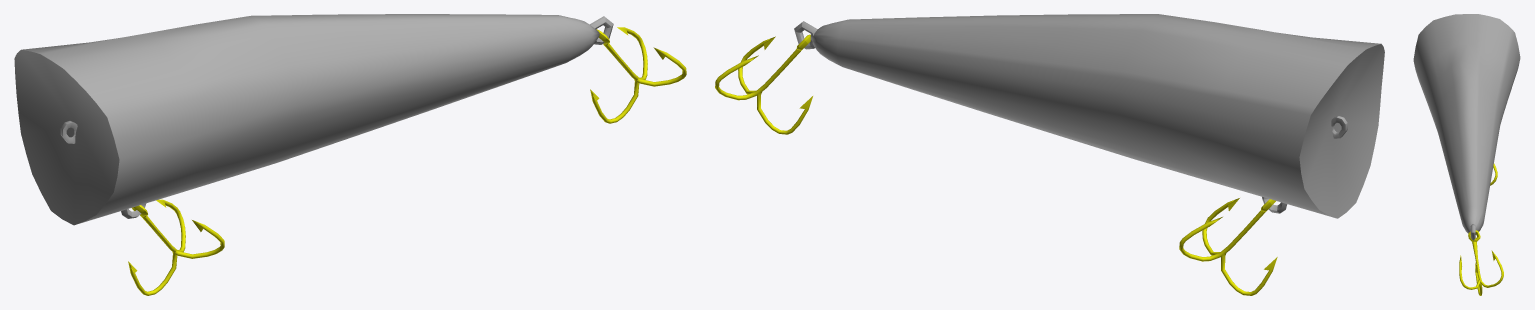
The model's file is PopOBJ.fbx.
3 views of the same model, side by side, from view 1: azimuth 30°, elevation 25°; view 2: azimuth 150°, elevation 25°; view 3: azimuth 270°, elevation 25° (orthographic). The views are drawn at different scales.
Parts seen in each view (by area): view 1: polySurface418; view 2: polySurface418; view 3: polySurface418.
Boxes of the visible parts, <box> form: polySurface418: <box>14,14,686,295</box>; polySurface418: <box>715,14,1384,295</box>; polySurface418: <box>1413,14,1520,295</box>.
Bounding box in the file's own units: 2.18 × 0.8697 × 0.5564.
